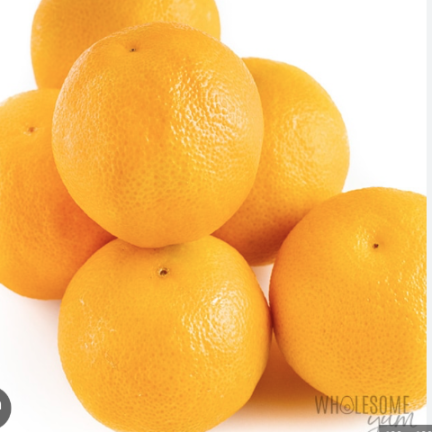orange: (46, 226, 304, 431), (44, 24, 278, 248), (266, 151, 432, 414)
